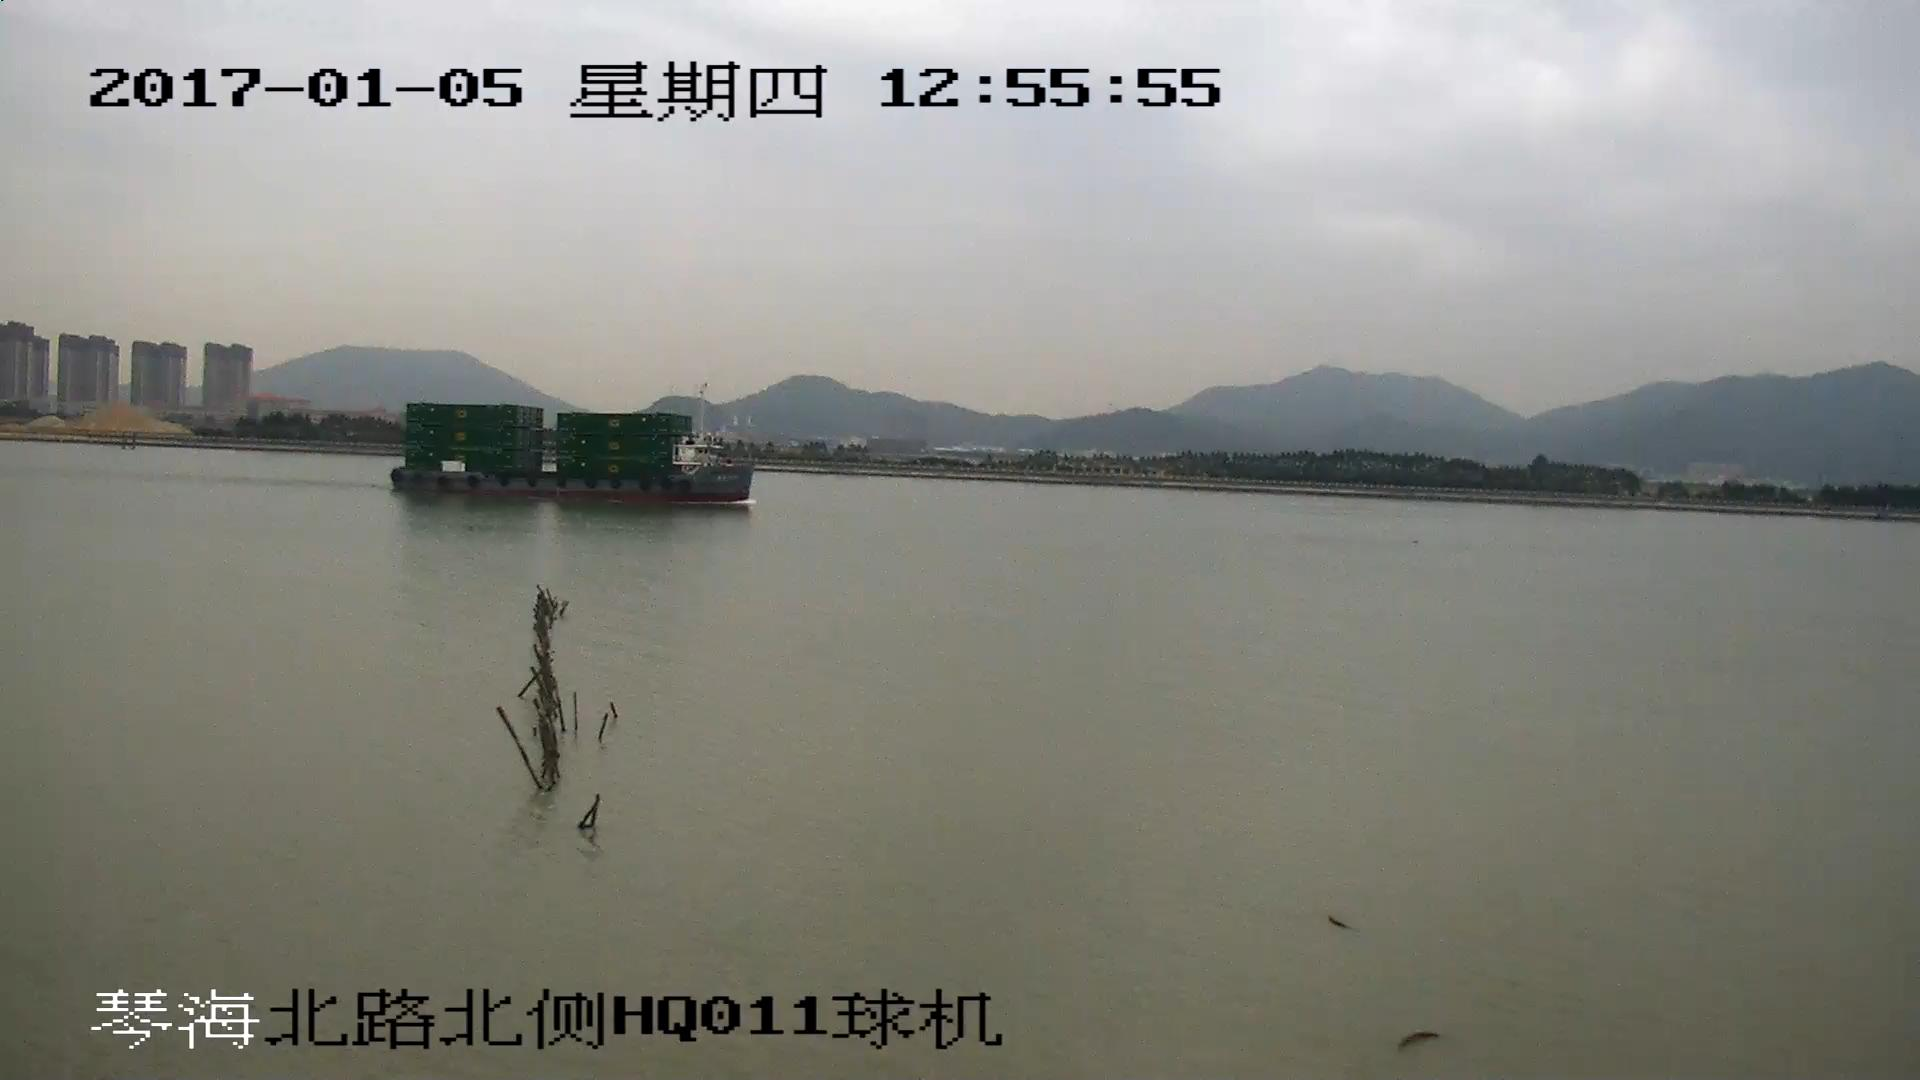container ship: (393, 402, 751, 507)
